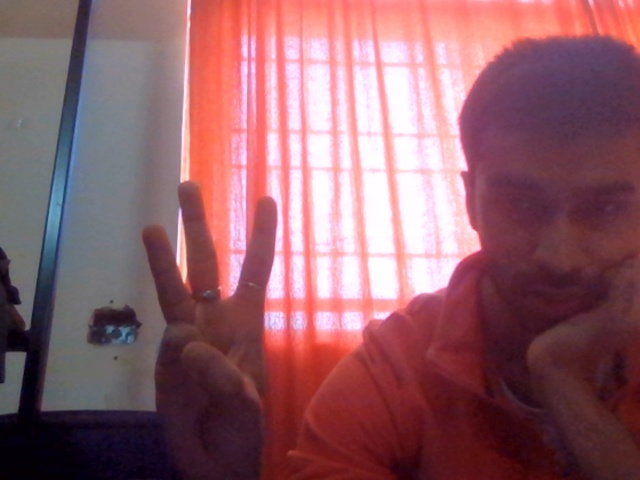W: (114, 164, 341, 480)
